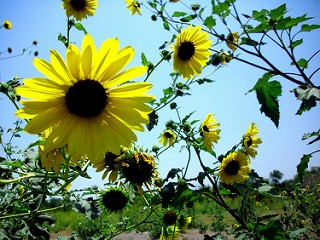flower: (12, 33, 157, 160), (165, 24, 213, 81), (217, 151, 252, 189), (241, 120, 266, 163), (57, 0, 99, 24), (200, 111, 224, 152)
